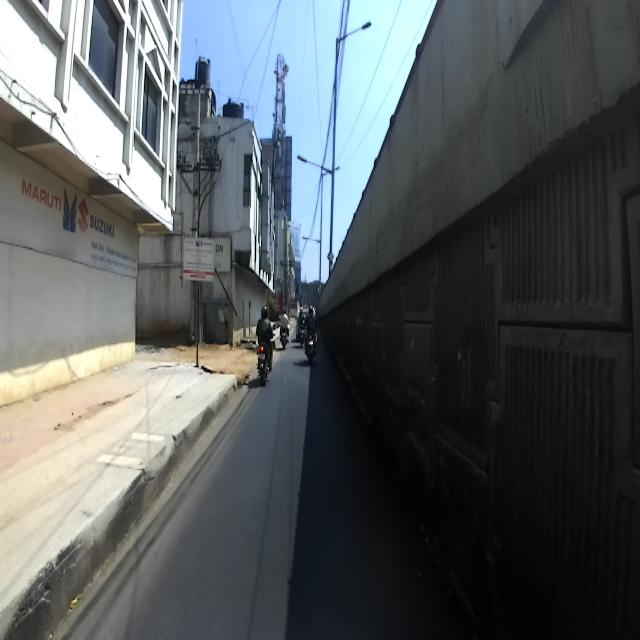electric pole ahead at: (172, 120, 222, 372)
